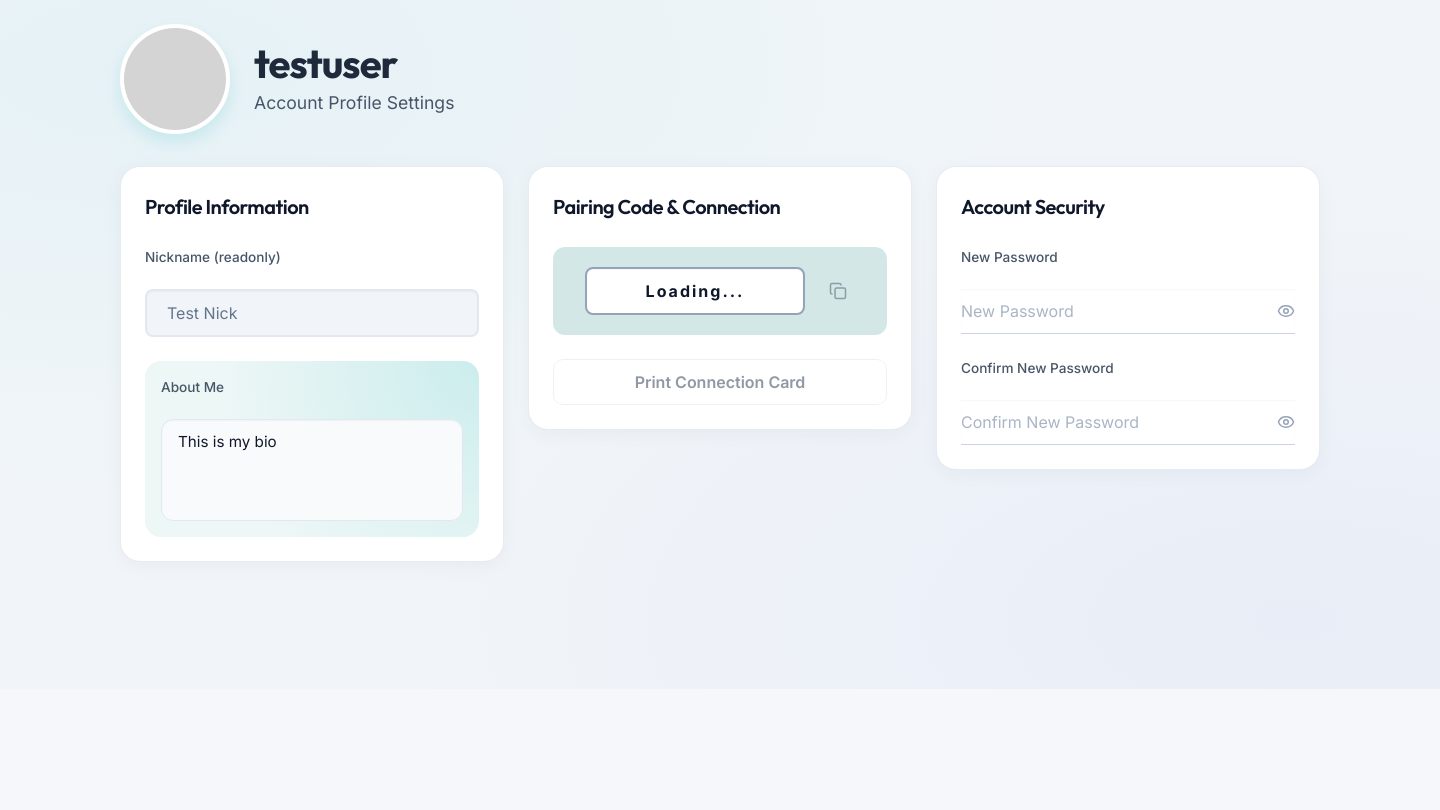
Test case: EditProfile › cancels changes
Replace the text in the text box with placeholder "Tell us about yourself..." with "New Bio" at (312, 470), box [161,418,463,520]
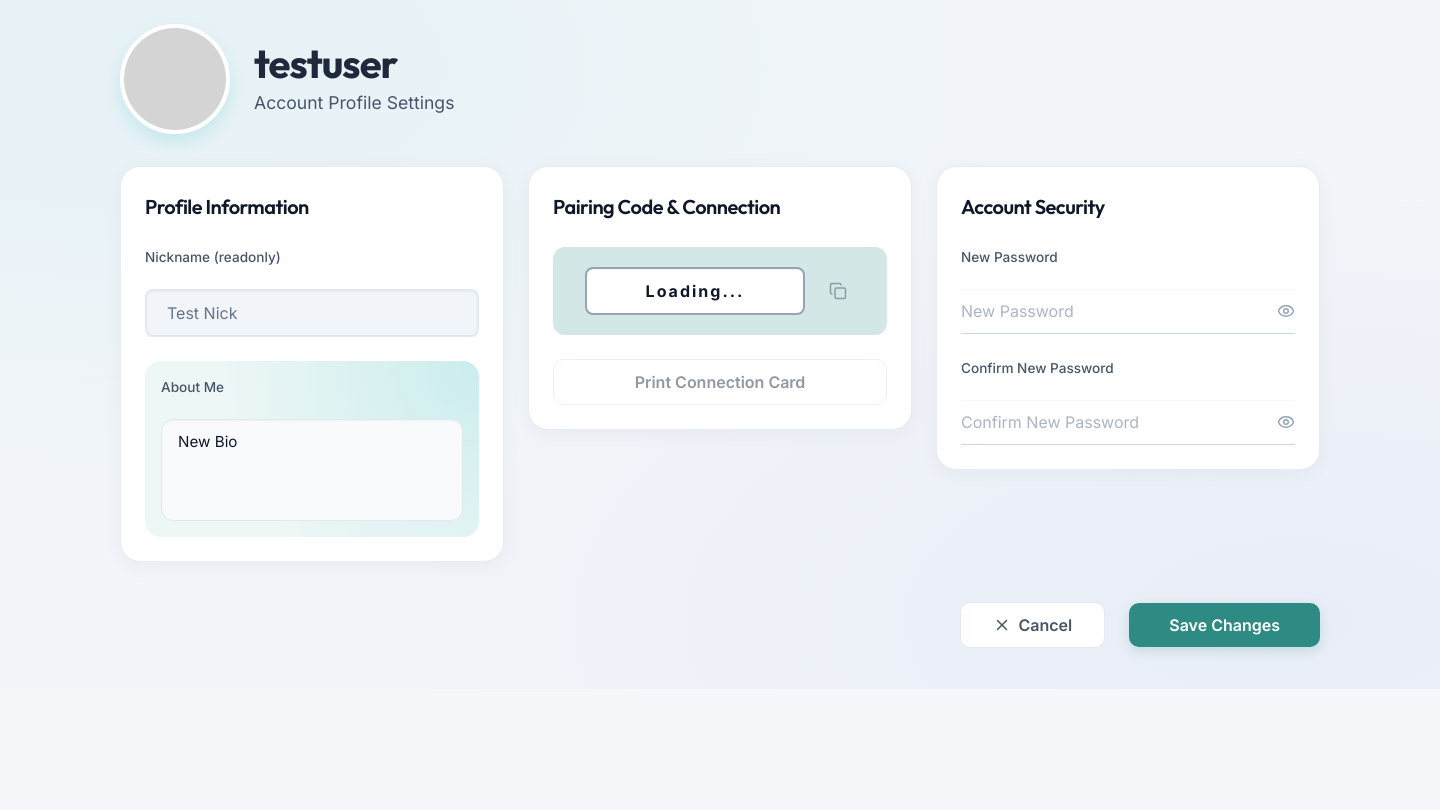
Click the button "Cancel" at (1032, 624), box [960,602,1105,648]
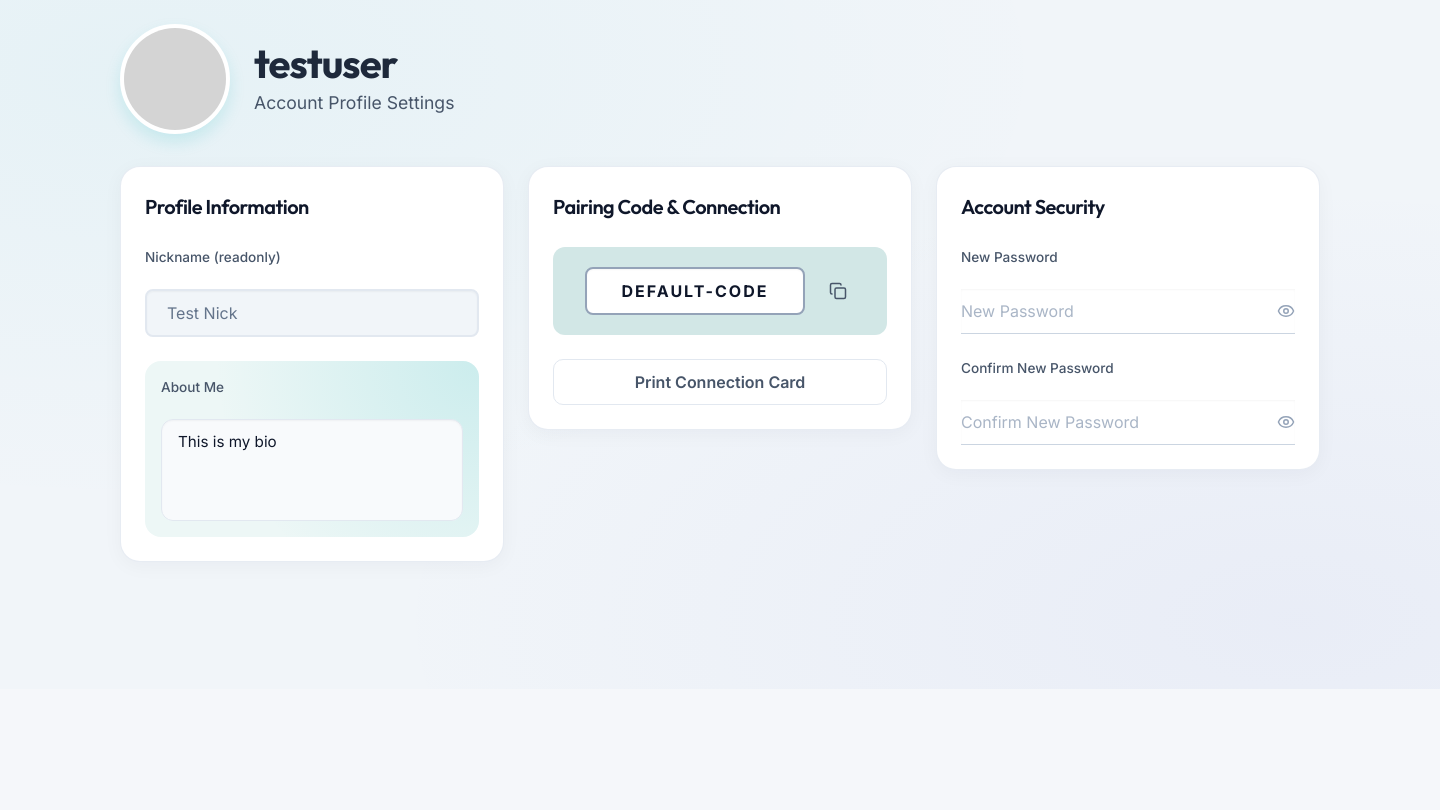
Expected: the button "Save Changes" is gone
Expected: the text box with placeholder "Tell us about yourself..." holds "This is my bio", [161,418,463,520]
